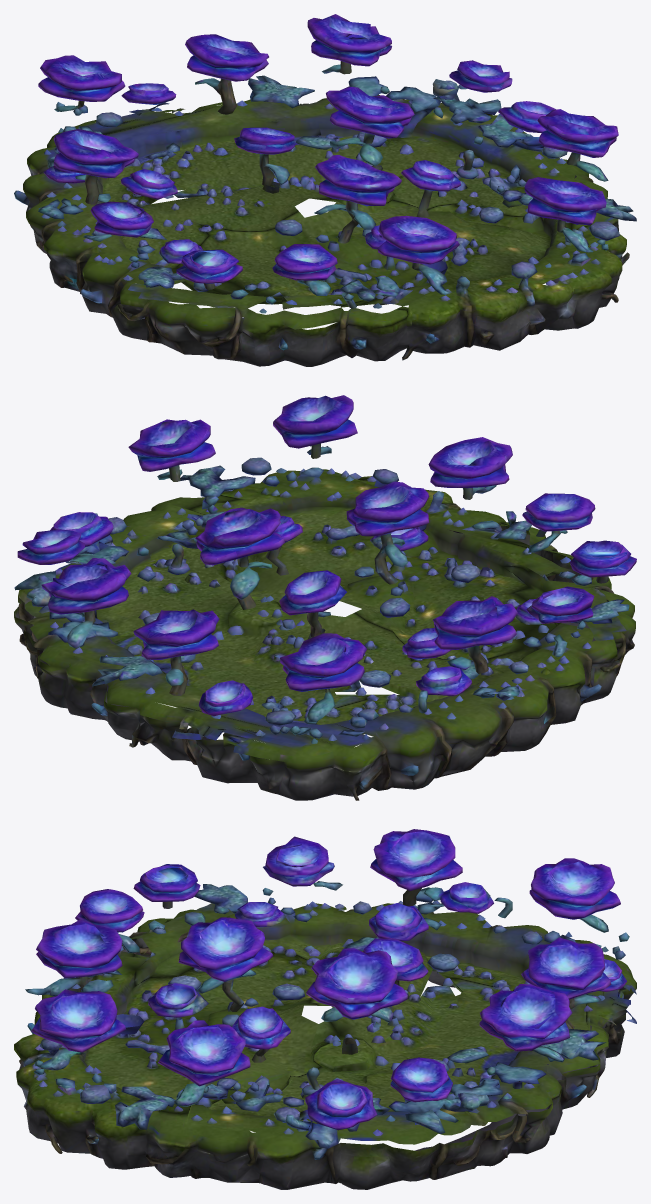
Rendered from flower_field_small.glb.
3 renders of one model, top to bottom at view 1: azimuth 30°, elevation 25°; view 2: azimuth 150°, elevation 25°; view 3: azimuth 270°, elevation 25°, orthographic. The views are drawn at different scales.
Visible parts, largest first — view 1: tripo_node_259ab0ad-80cb-4c85-9062-4dfd29817511; view 2: tripo_node_259ab0ad-80cb-4c85-9062-4dfd29817511; view 3: tripo_node_259ab0ad-80cb-4c85-9062-4dfd29817511.
Boxes of the visible parts, left/top/right/bottom form: tripo_node_259ab0ad-80cb-4c85-9062-4dfd29817511: left=14, top=14, right=636, bottom=366; tripo_node_259ab0ad-80cb-4c85-9062-4dfd29817511: left=14, top=395, right=636, bottom=800; tripo_node_259ab0ad-80cb-4c85-9062-4dfd29817511: left=14, top=829, right=636, bottom=1189.
Bounding box in the file's own units: 0.9687 × 0.2467 × 1.
Materials: 1 (1 with a texture image).
